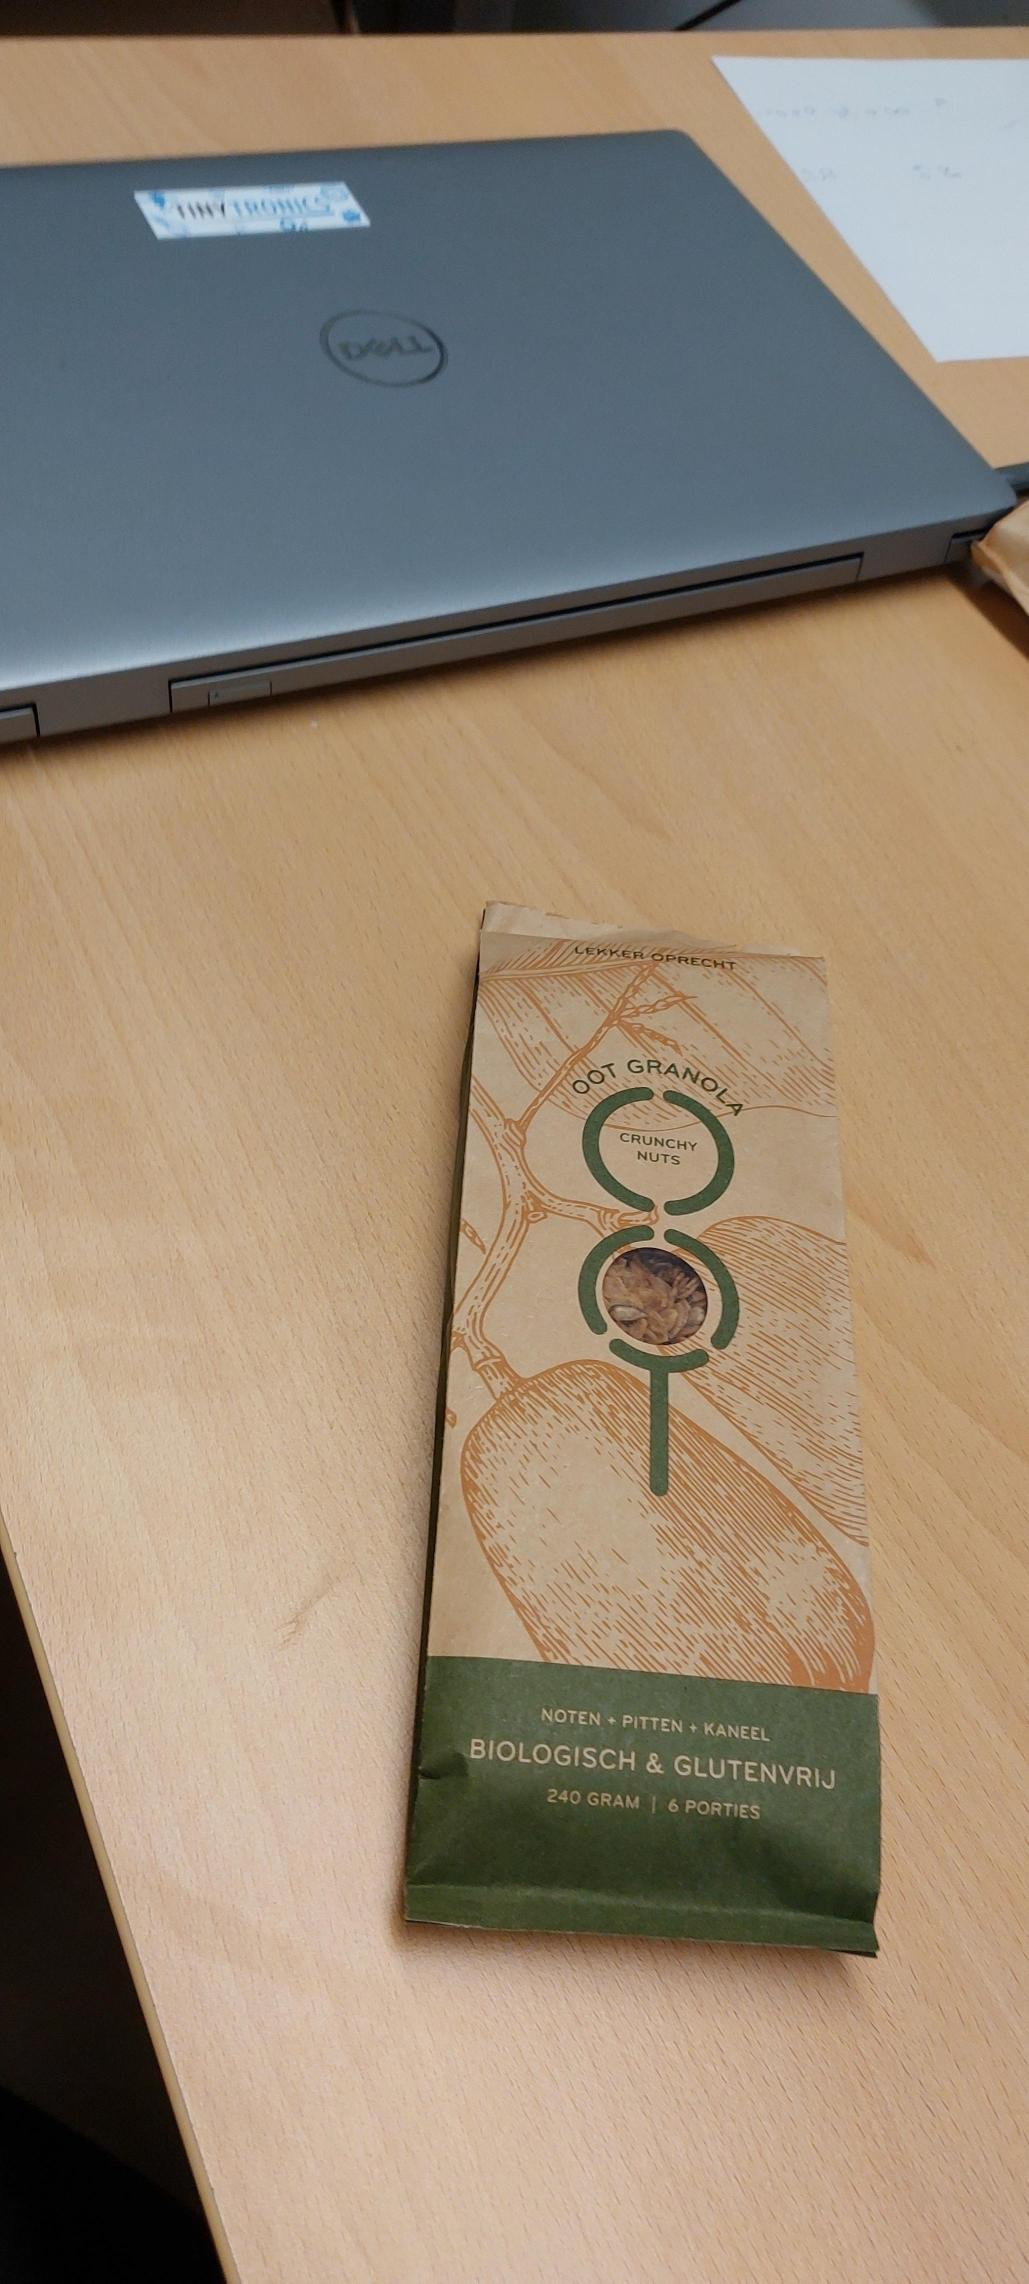CrunchyNuts: (450, 929, 851, 1895)
